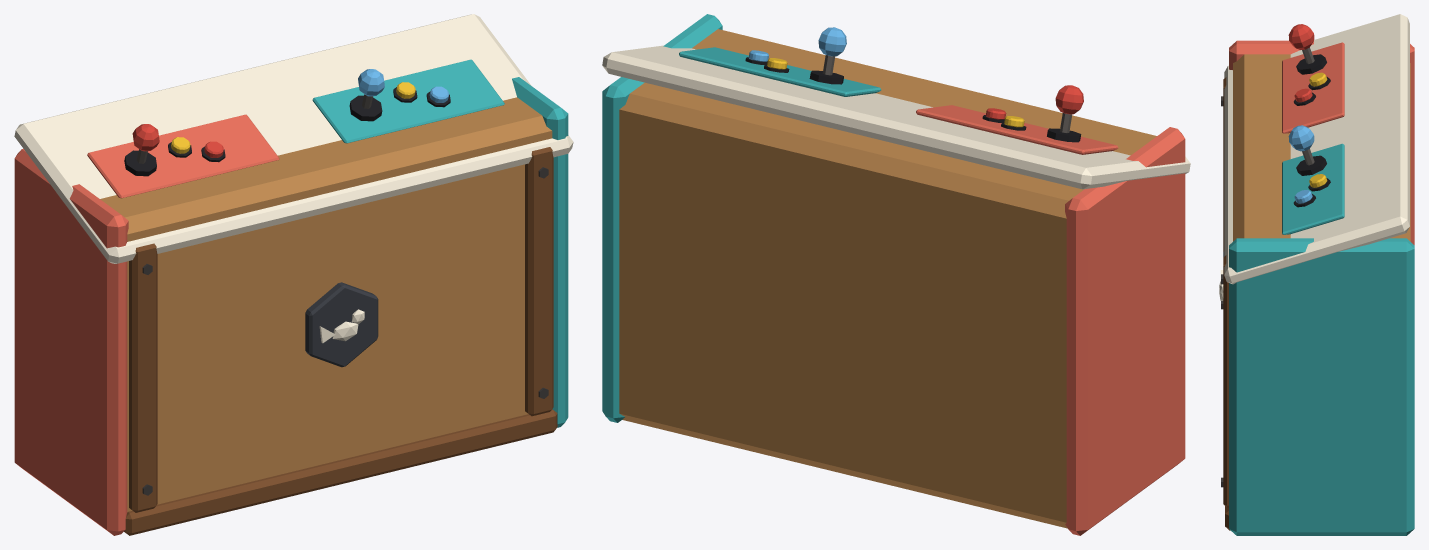
Rendered from double_control_deck.glb.
The picture shows the model from 3 angles, left to right: view 1: azimuth 30°, elevation 25°; view 2: azimuth 150°, elevation 25°; view 3: azimuth 270°, elevation 25°; orthographic projection. The views are drawn at different scales.
Visible parts, largest first — view 1: double_control_deck, part_joystick_2, part_joystick_1; view 2: double_control_deck, part_joystick_2, part_joystick_1; view 3: double_control_deck, part_joystick_2, part_joystick_1.
Part boxes in pixels (left/top/right/bottom): double_control_deck: left=14, top=14, right=573, bottom=535; part_joystick_2: left=358, top=69, right=384, bottom=108; part_joystick_1: left=132, top=124, right=159, bottom=163; double_control_deck: left=602, top=14, right=1190, bottom=535; part_joystick_2: left=818, top=27, right=846, bottom=75; part_joystick_1: left=1055, top=85, right=1083, bottom=132; double_control_deck: left=1219, top=14, right=1414, bottom=535; part_joystick_2: left=1288, top=125, right=1314, bottom=165; part_joystick_1: left=1288, top=24, right=1314, bottom=63.
Bounding box in the file's own units: 1.28 × 0.9701 × 0.5048.
